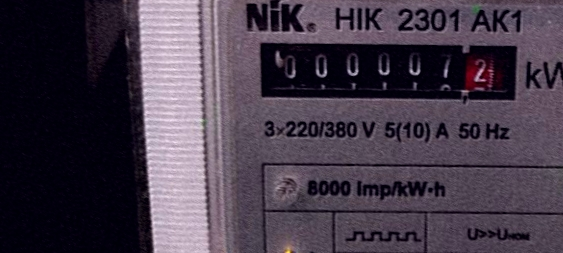0: (375, 50, 394, 78), (281, 52, 299, 80), (344, 50, 362, 78), (407, 50, 424, 79), (313, 51, 330, 79)
2: (472, 58, 489, 84)
7: (438, 50, 455, 81)
screen: (247, 30, 530, 113)
